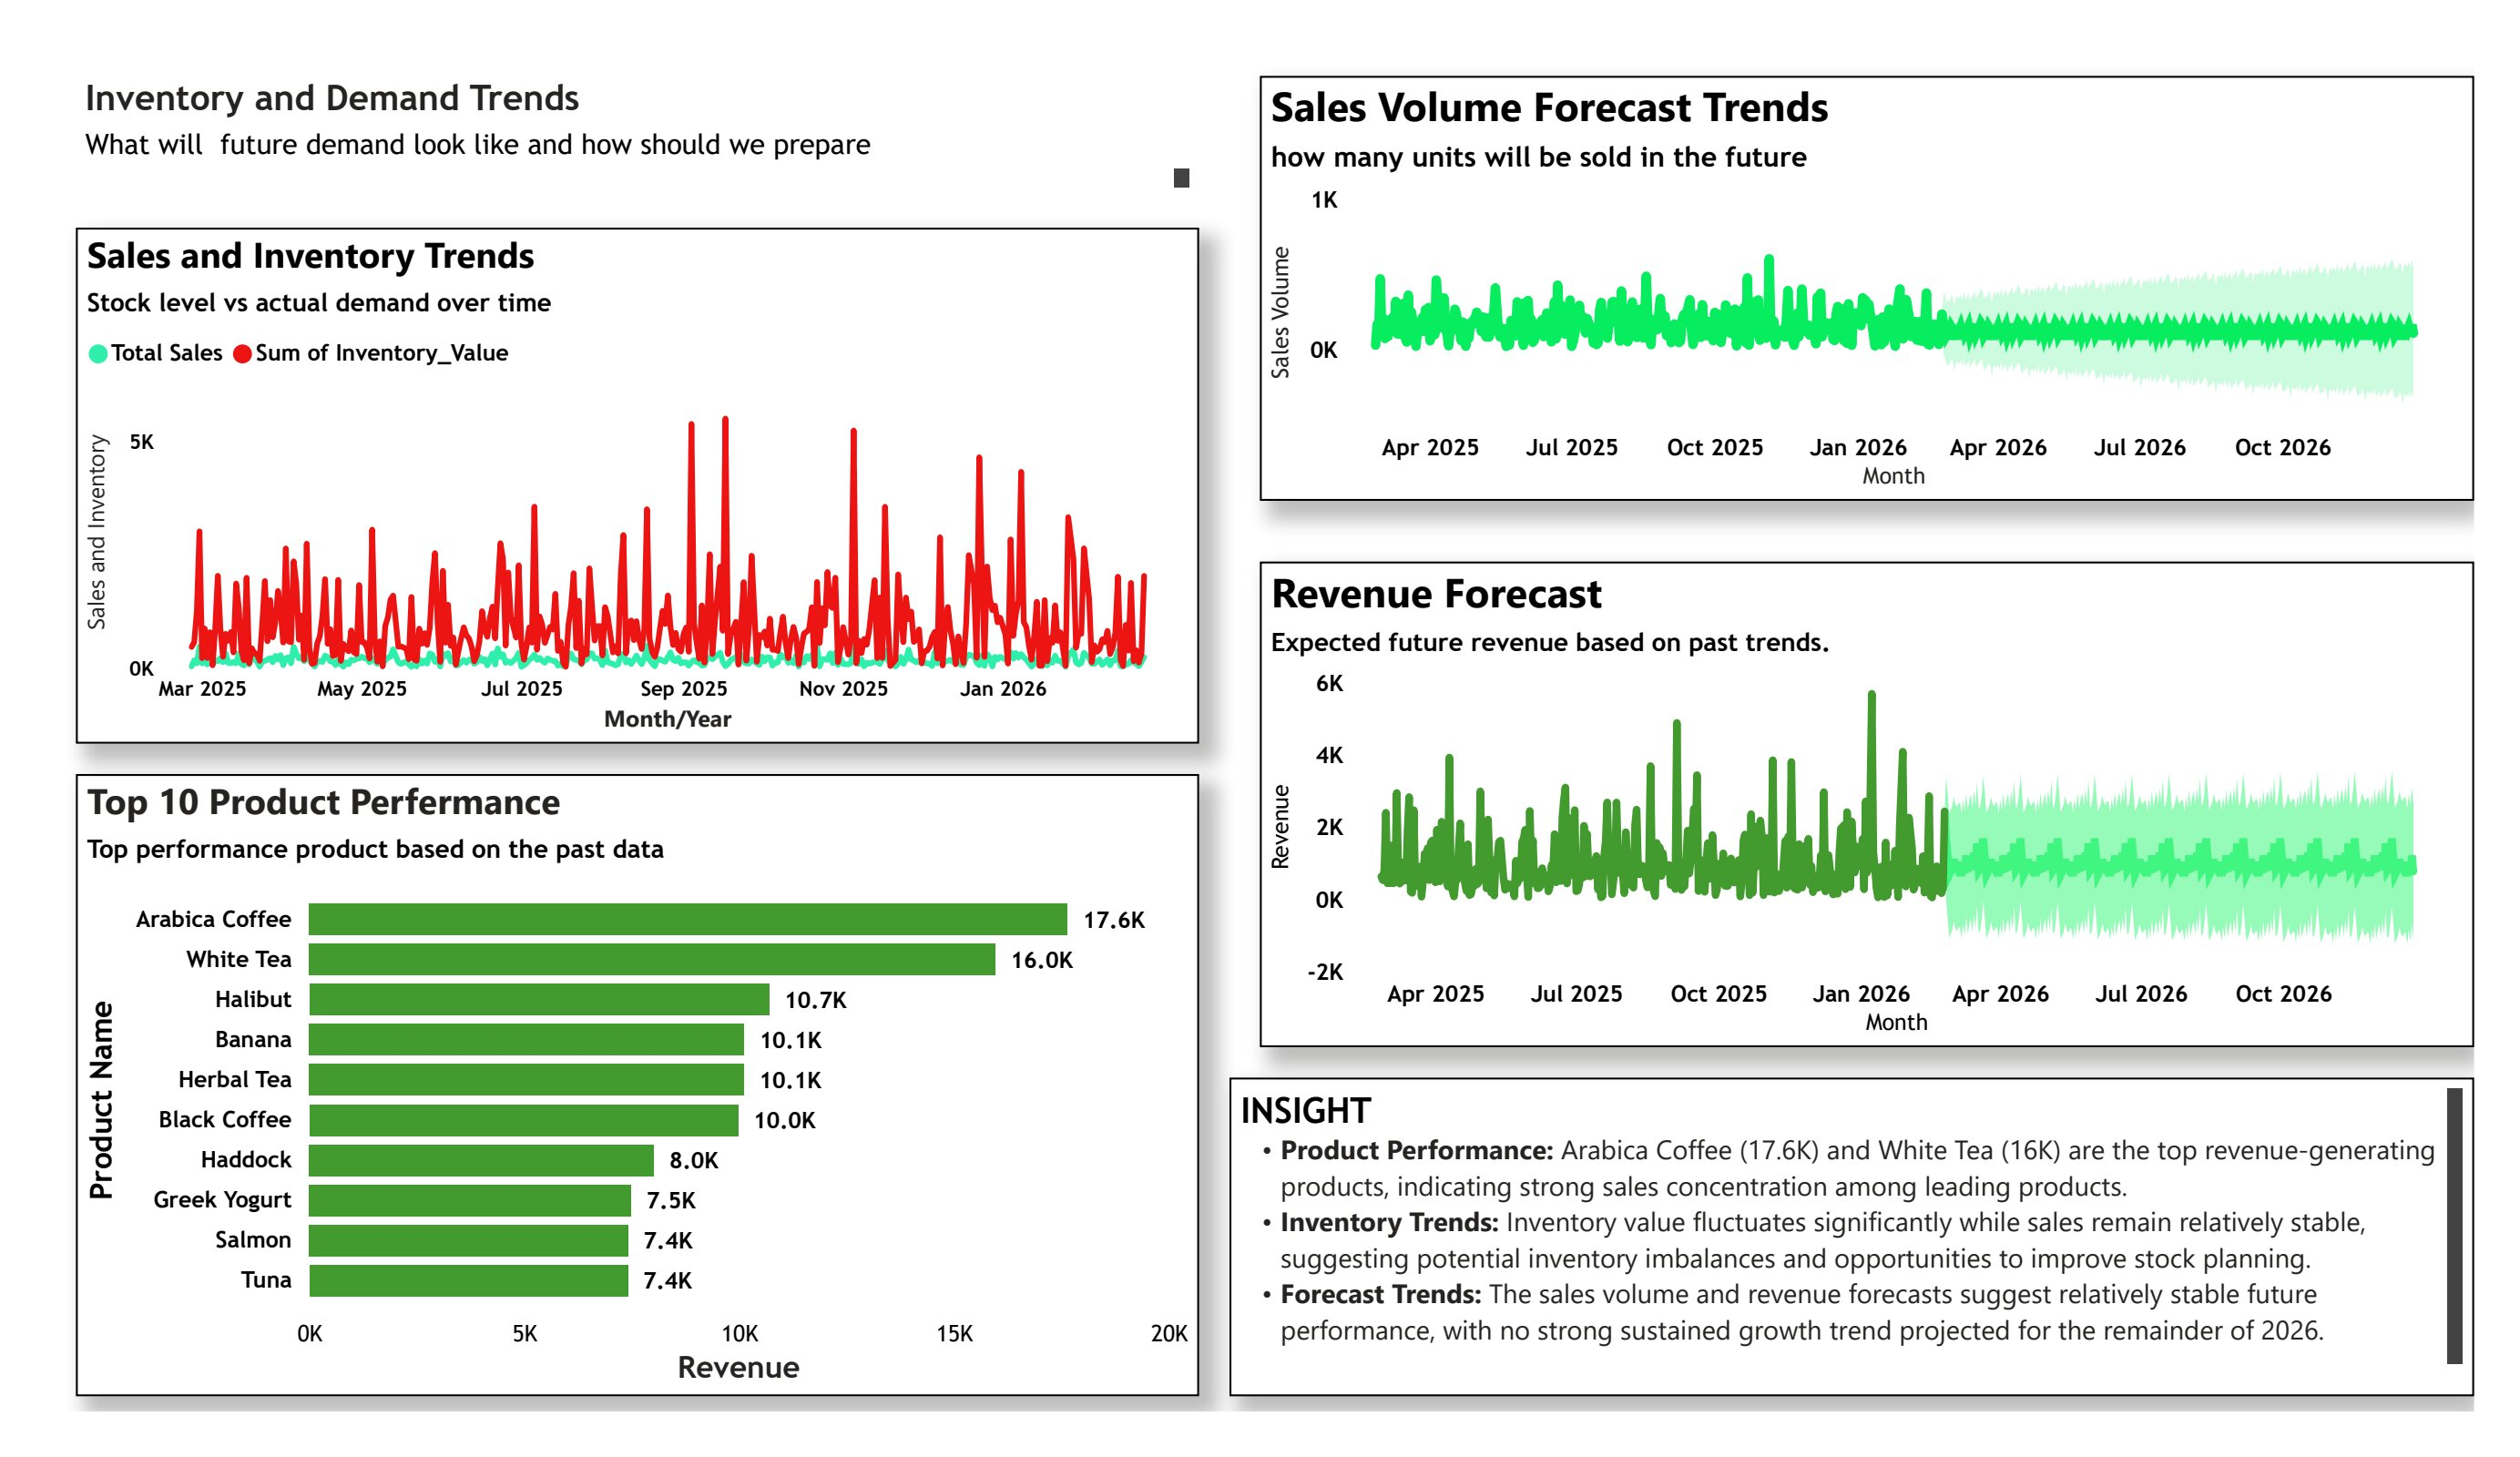

This screenshot's page, from the dashboard's own definition file:
{"tool":"powerbi","page":{"name":"future demand","canvas":[1280,720],"ordinal":2},"visuals":[{"type":"lineChart","title":"Revenue Forecast ","fields":{"Category":["Grocery_Inventory_Data.Date.Variation.Date Hierarchy.Year"],"Y":["Sum(Grocery_Inventory_Data.Revenue)"]},"box":[640,272,640,256],"z":0},{"type":"lineChart","title":"Sales Volume Forecast Trends","fields":{"Category":["Grocery_Inventory_Data.Date.Variation.Date Hierarchy.Year"],"Y":["Sum(Grocery_Inventory_Data.Sales_Volume)"]},"box":[640,16,640,224],"z":1000},{"type":"lineChart","title":"Sales and Inventory Trends","fields":{"Category":["Grocery_Inventory_Data.Date.Variation.Date Hierarchy.Year"],"Y":["Kay Calculations.Total Sales","Sum(Grocery_Inventory_Data.Inventory_Value)"]},"box":[16,96,592,272],"z":2000},{"type":"barChart","title":"Top 10 Product Perfermance","fields":{"Category":["Grocery_Inventory_Data.Product_Name"],"Y":["Kay Calculations.Total Revenue"]},"box":[16,384,592,328],"z":3000},{"type":"textbox","box":[624,544,656,168],"z":4000},{"type":"textbox","title":"Inventory and Demand Trends","box":[16,16,592,64],"z":5000}]}

Visuals, with their boxes in screenshot pixels (x1, y1, x2, y2):
"Revenue Forecast " lineChart: [1251,562,2450,1041]
"Sales Volume Forecast Trends" lineChart: [1251,83,2450,502]
"Sales and Inventory Trends" lineChart: [83,232,1191,741]
"Top 10 Product Perfermance" barChart: [83,771,1191,1386]
textbox: [1221,1071,2450,1386]
"Inventory and Demand Trends" textbox: [83,83,1191,202]
